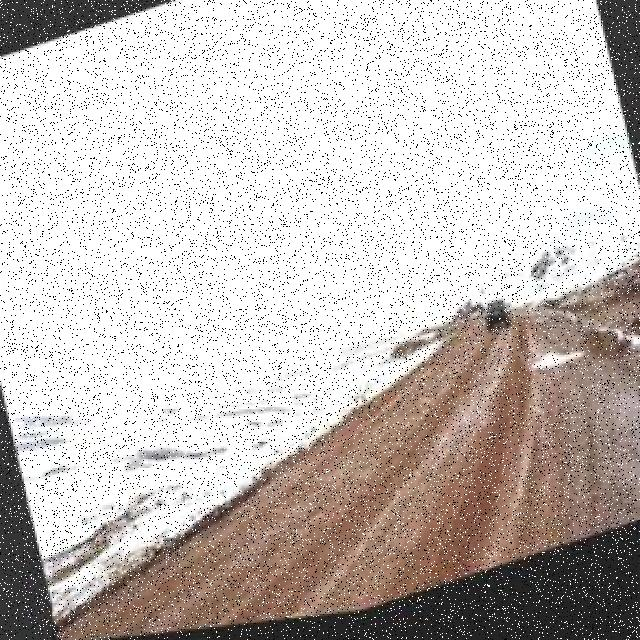ice-road: (53, 318, 640, 640)
